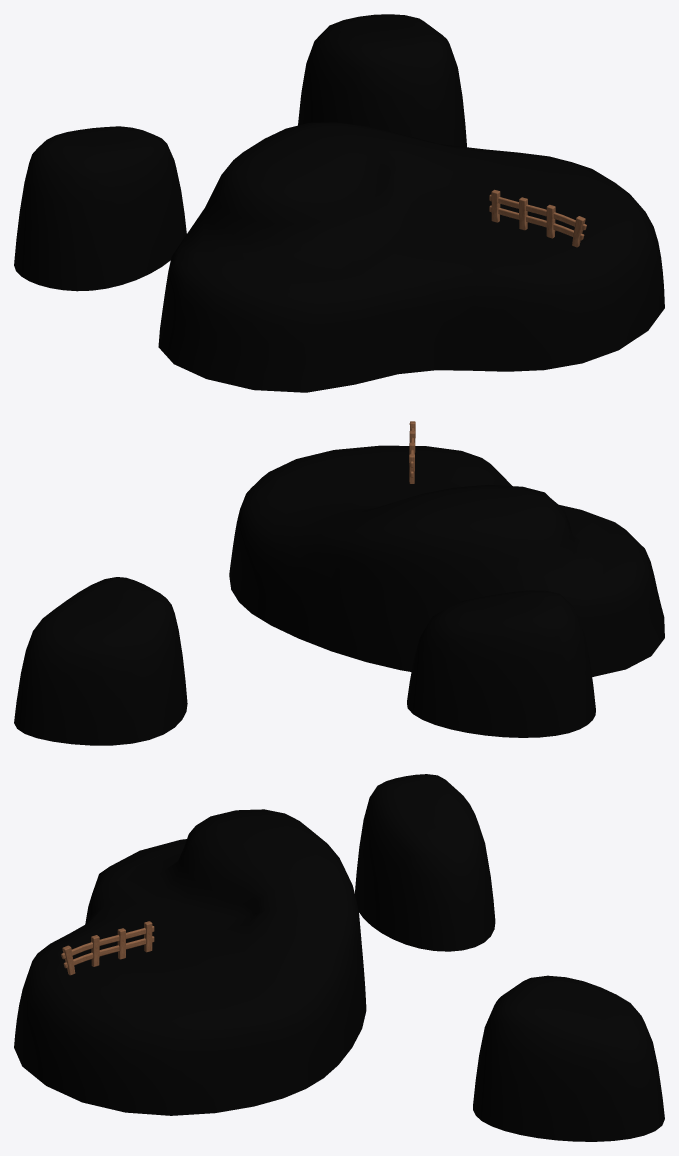
Rendered from navigation_terrain.glb.
3 views of the same model, one above another, from view 1: azimuth 30°, elevation 25°; view 2: azimuth 150°, elevation 25°; view 3: azimuth 270°, elevation 25° (orthographic). The views are drawn at different scales.
Parts seen in each view (by area): view 1: Ground, Fence; view 2: Ground; view 3: Ground, Fence.
Boxes of the visible parts, <box> form: Ground: <box>14,14,664,392</box>; Fence: <box>489,189,586,247</box>; Ground: <box>14,445,664,745</box>; Ground: <box>14,774,664,1141</box>; Fence: <box>61,921,154,975</box>.
Size of the model in its own units: 18.62 by 5.93 by 21.48.
1 material, 1 textured.
